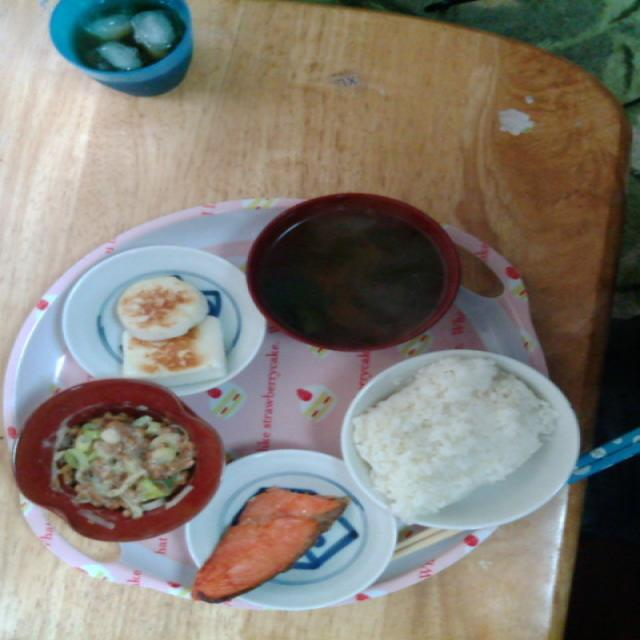Rice: (362, 340, 566, 516)
